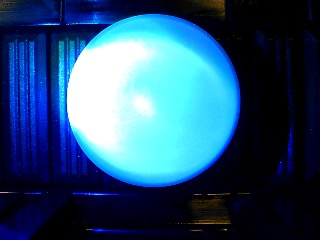BLANK: (67, 14, 240, 187)
